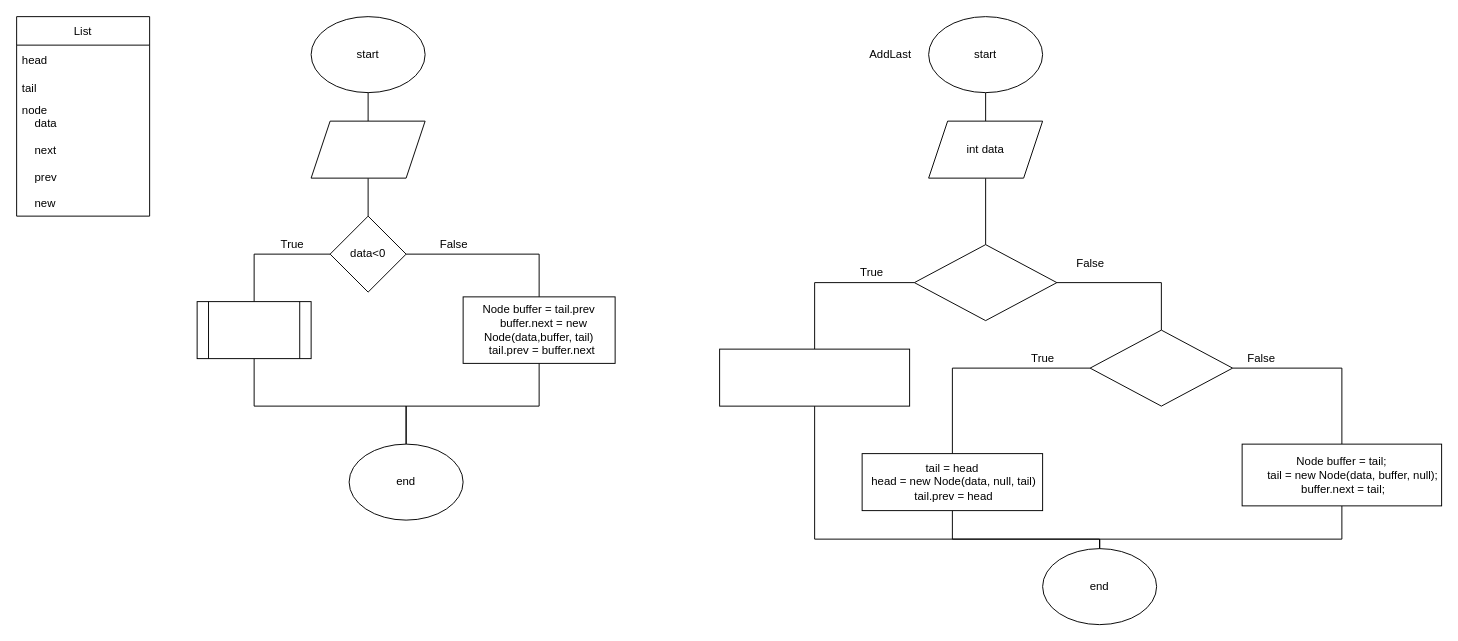
This 1458x641 diagram has some shape labels left out. The shapes that lost their labels are listed below. From the top down, each one's centre as x and y in pixels, then its label:
point 367,149: data
point 985,282: tail = null
point 253,330: addlast(data)
point 814,377: head = new Node(data, null, null) tail = head
point 1161,367: head.next = null
